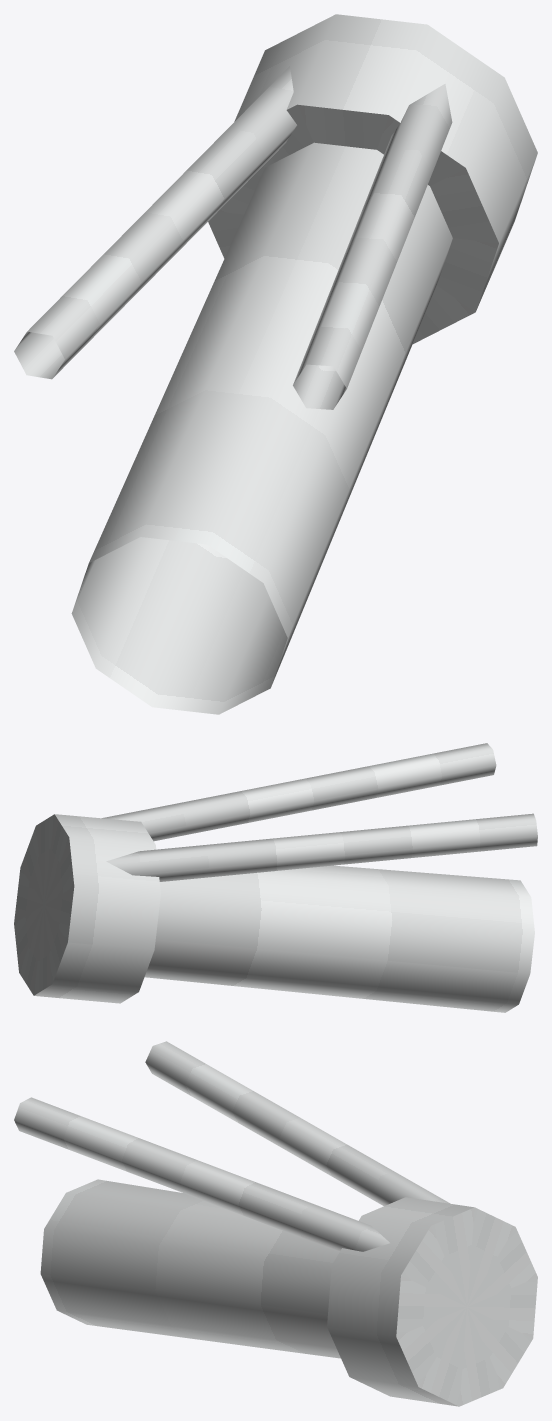
The model's file is nycsignalarm_diagonal4_c7.obj.
The picture shows the model from 3 angles, top to bottom: view 1: azimuth 30°, elevation 25°; view 2: azimuth 150°, elevation 25°; view 3: azimuth 270°, elevation 25°; orthographic projection. The views are drawn at different scales.
Parts seen in each view (by area): view 1: nycsignalarm_diagonal4_c7; view 2: nycsignalarm_diagonal4_c7; view 3: nycsignalarm_diagonal4_c7.
Boxes of the visible parts, box(x1,y1,x2,y2) form: nycsignalarm_diagonal4_c7: box(14, 14, 537, 714); nycsignalarm_diagonal4_c7: box(14, 743, 537, 1012); nycsignalarm_diagonal4_c7: box(14, 1041, 537, 1406).
Bounding box in the file's own units: 0.9151 × 0.4808 × 0.9151.
